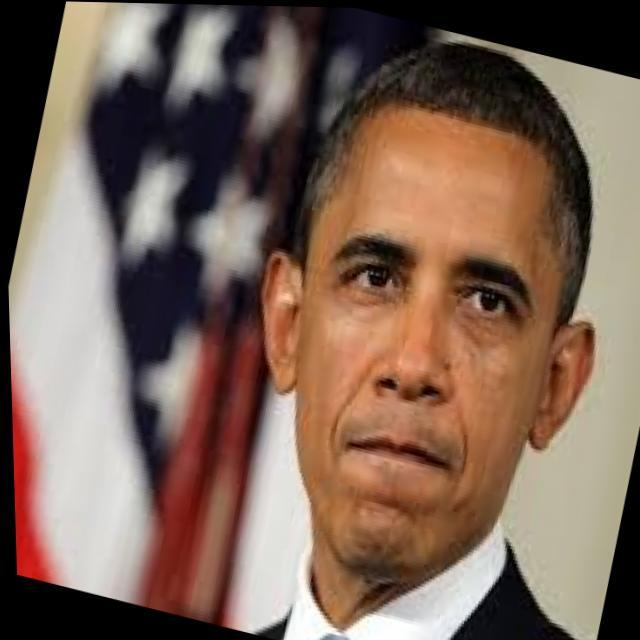Nonhelmet: (248, 36, 604, 605)
